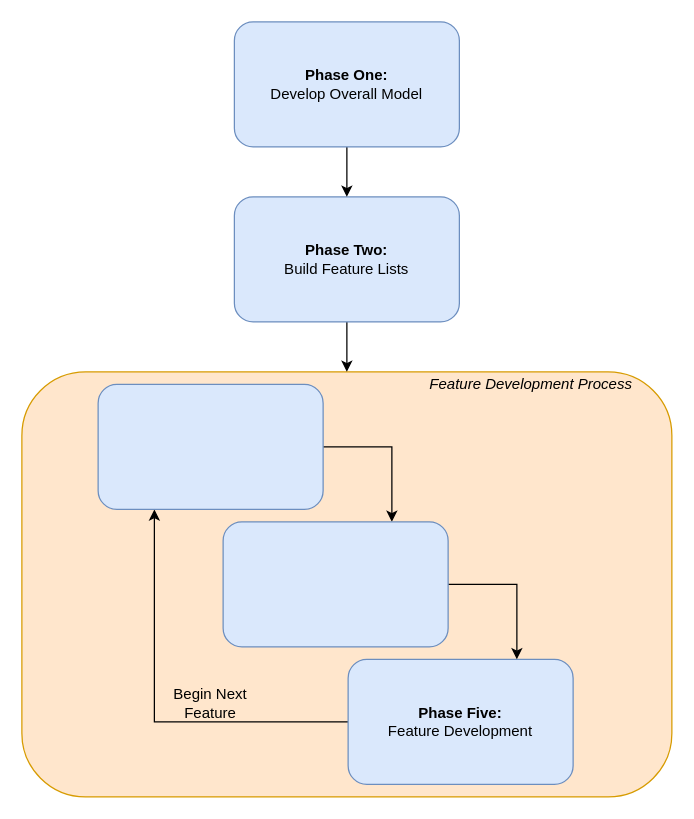
This 694x819 diagram has some shape labels left out. Each missing label, with the centre of its shape:
"Phase Four: Feature Design" belongs at (x=335, y=584).
"Phase Three: Feature Planning" belongs at (x=210, y=446).
